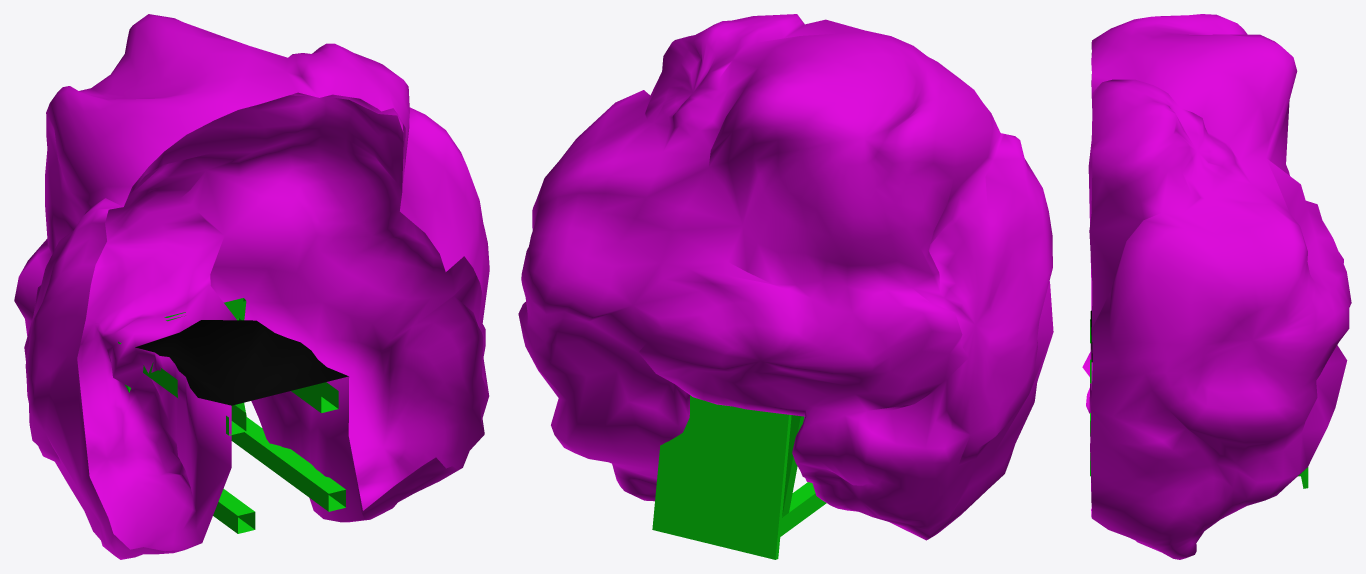
The model's file is MineShaft.fbx.
3 renders of one model, left to right at view 1: azimuth 30°, elevation 25°; view 2: azimuth 150°, elevation 25°; view 3: azimuth 270°, elevation 25°, orthographic. The views are drawn at different scales.
Visible parts, largest first — view 1: Cube; view 2: Cube; view 3: Cube.
Part boxes in pixels (x1,y1,x2,y2): Cube: (14,14,489,559); Cube: (518,14,1053,559); Cube: (1082,14,1351,559).
Size of the model in its own units: 1140 by 1152 by 638.
